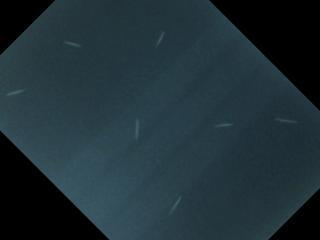scratch: (150, 27, 170, 53), (270, 113, 300, 128), (167, 194, 185, 218), (210, 117, 235, 133), (61, 38, 85, 53), (132, 117, 143, 145), (5, 88, 25, 96)
